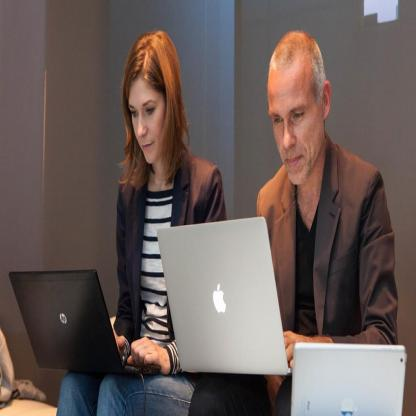board: (164, 210, 289, 385), (8, 273, 162, 375), (290, 344, 405, 415)
